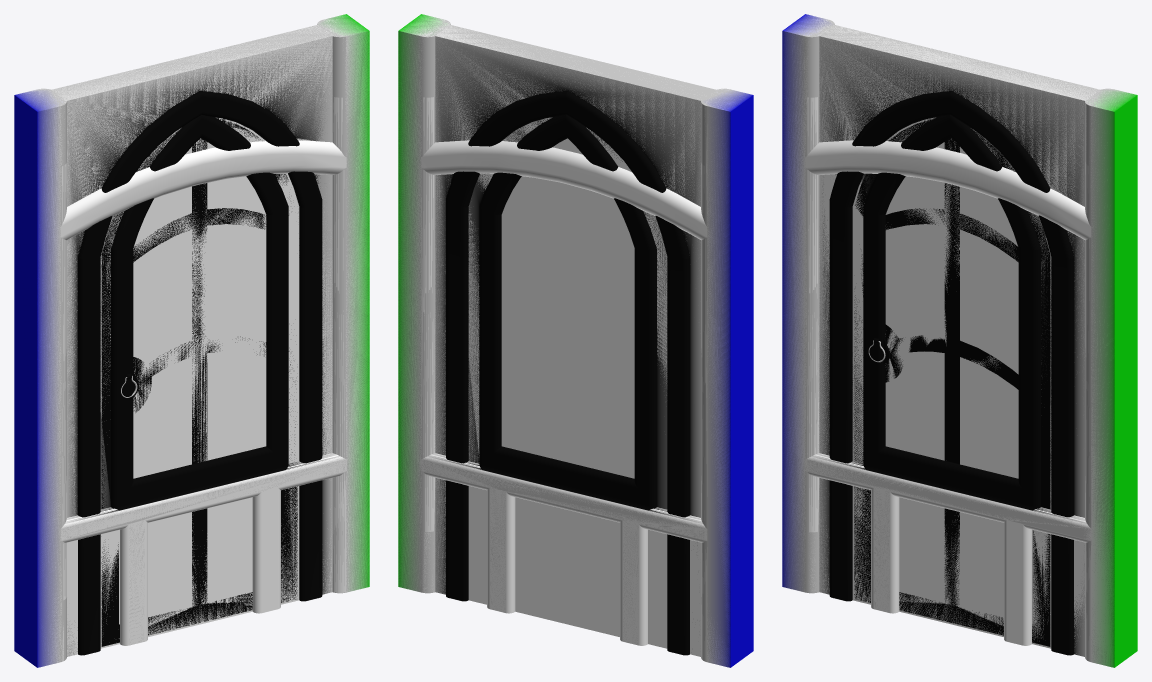
Rendered from fantasy.fbx.
3 renders of one model, left to right at view 1: azimuth 30°, elevation 25°; view 2: azimuth 150°, elevation 25°; view 3: azimuth 330°, elevation 25°, orthographic.
Visible parts, largest first — view 1: fantasy_solid, fantasy_door, fantasy_window; view 2: fantasy_solid, fantasy_door, fantasy_window; view 3: fantasy_solid, fantasy_door, fantasy_window.
Part boxes in pixels (left/top/right/bottom): fantasy_solid: left=14, top=14, right=369, bottom=667; fantasy_door: left=15, top=14, right=369, bottom=667; fantasy_window: left=15, top=14, right=369, bottom=663; fantasy_solid: left=398, top=14, right=753, bottom=667; fantasy_door: left=398, top=14, right=752, bottom=658; fantasy_window: left=398, top=14, right=749, bottom=667; fantasy_solid: left=782, top=14, right=1137, bottom=667; fantasy_door: left=782, top=14, right=1136, bottom=656; fantasy_window: left=782, top=14, right=1134, bottom=665.
Bounding box in the file's own units: 150 × 240 × 18.
